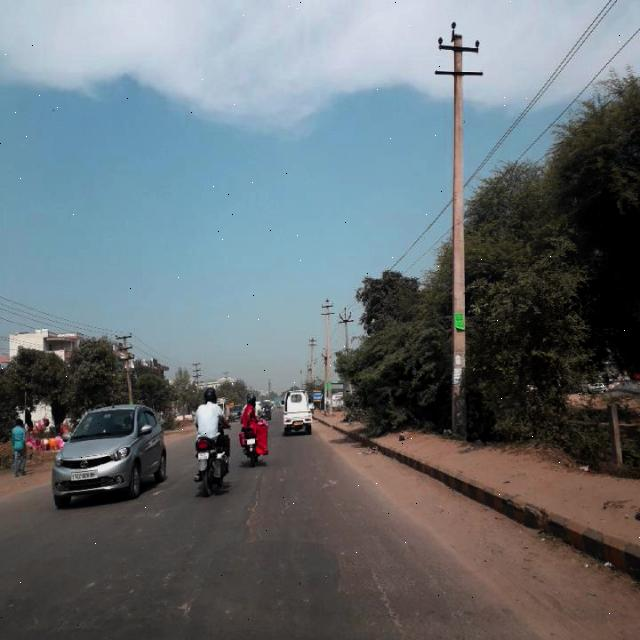D00: (374, 566, 404, 639), (239, 474, 269, 546)
